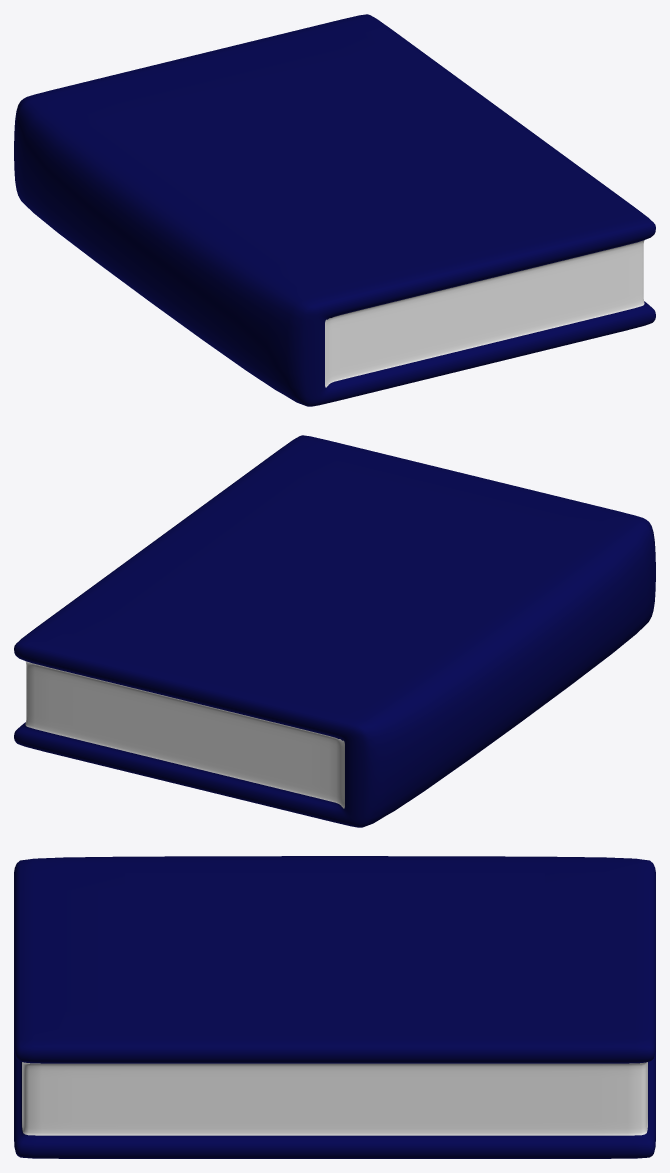
The model's file is ChurchBookClosedV2.dae.
3 renders of one model, top to bottom at view 1: azimuth 30°, elevation 25°; view 2: azimuth 150°, elevation 25°; view 3: azimuth 270°, elevation 25°, orthographic. The views are drawn at different scales.
Visible parts, largest first — view 1: ChurchBookClosedV2; view 2: ChurchBookClosedV2; view 3: ChurchBookClosedV2.
Boxes of the visible parts, <box> form: ChurchBookClosedV2: <box>14,14,655,406</box>; ChurchBookClosedV2: <box>14,435,655,827</box>; ChurchBookClosedV2: <box>14,856,655,1158</box>.
Size of the model in its own units: 1.5 by 2 by 0.4.
Materials: 1 (1 with a texture image).
